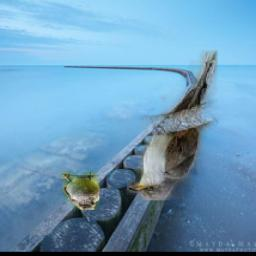Cuckoo: (127, 51, 218, 201)
Sparrow: (63, 172, 100, 210)
